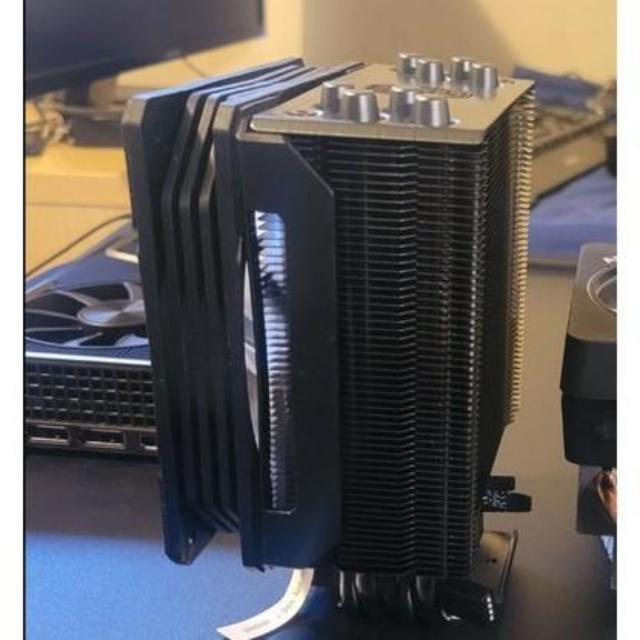CPU_Fan: (120, 56, 535, 610)
